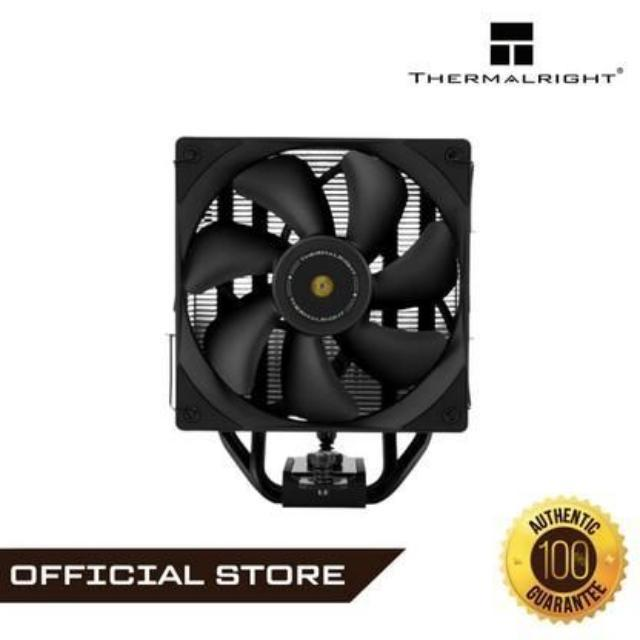CPU_Fan: (174, 137, 472, 505)
